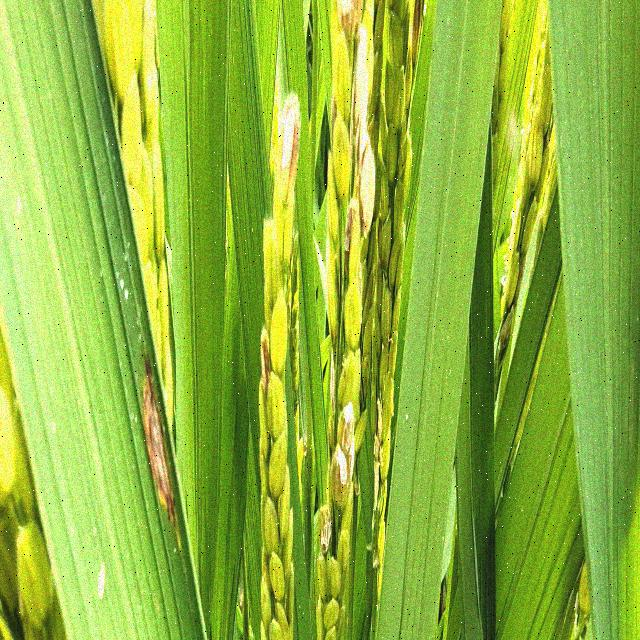LEAF BLAST: (143, 360, 175, 522)
